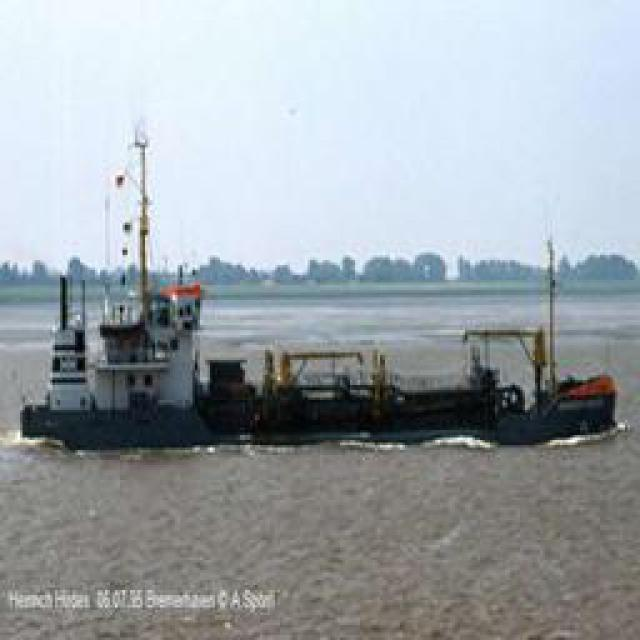Ship: (22, 125, 613, 466)
